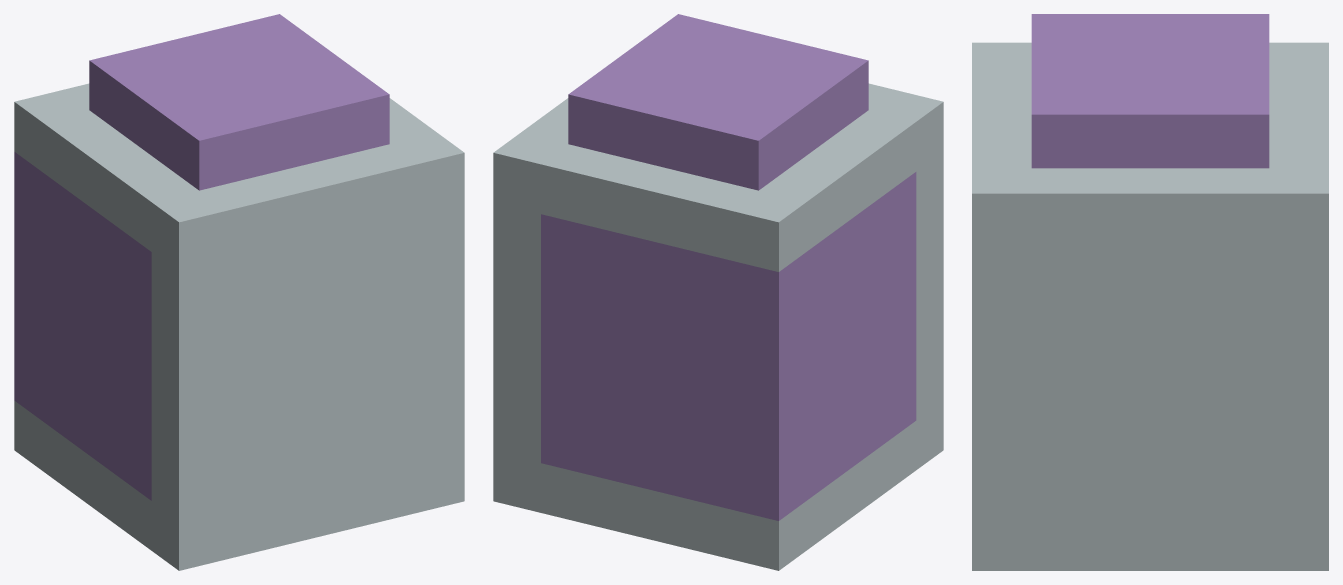
The model's file is frasco_pocion_tintado_01.glb.
The picture shows the model from 3 angles, left to right: view 1: azimuth 30°, elevation 25°; view 2: azimuth 150°, elevation 25°; view 3: azimuth 270°, elevation 25°; orthographic projection. The views are drawn at different scales.
Visible parts, largest first — view 1: frasco_pocion_tintado; view 2: frasco_pocion_tintado; view 3: frasco_pocion_tintado.
Part boxes in pixels (<box>): frasco_pocion_tintado: <box>14,14,464,570</box>; frasco_pocion_tintado: <box>493,14,943,570</box>; frasco_pocion_tintado: <box>972,14,1328,570</box>.
Size of the model in its own units: 0.4286 by 0.5714 by 0.4286.
